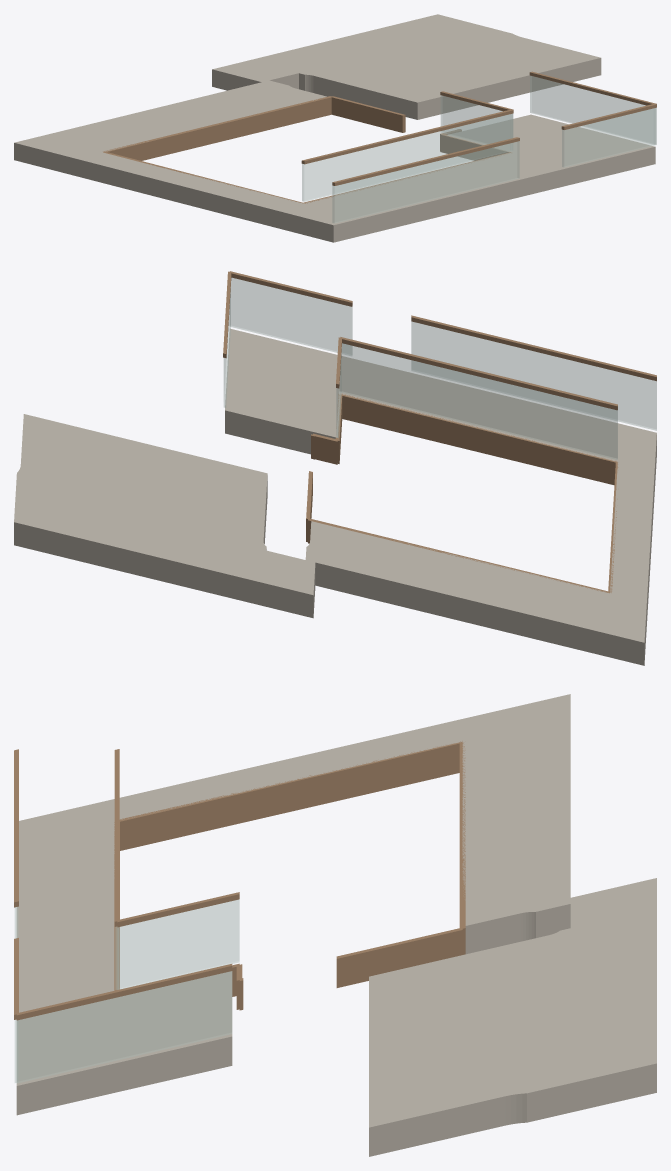
File: PERIMETER_794_r001.glb
3 renders of one model, top to bottom at view 1: azimuth 30°, elevation 25°; view 2: azimuth 150°, elevation 25°; view 3: azimuth 270°, elevation 25°, orthographic. The views are drawn at different scales.
Parts seen in each view (by area): view 1: G2P_794_TERRACE_00, G2P_794_RearGuardGlass_0, G2P_794_OuterGuard_2, G2P_794_OuterGuard_0, G2P_794_PitEdge_0_0, G2P_794_OuterGuard_1, G2P_794_RearGuardGlass_1, G2P_794_PitEdge_5_0, G2P_794_RearGuardRail_0, G2P_794_OuterRail_2, G2P_794_PitEdge_3_0, G2P_794_OuterRail_0 (+4 smaller); view 2: G2P_794_TERRACE_00, G2P_794_RearGuardGlass_0, G2P_794_OuterGuard_2, G2P_794_PitEdge_2_0, G2P_794_OuterGuard_1, G2P_794_RearGuardRail_0, G2P_794_OuterRail_2, G2P_794_PitEdge_0_0, G2P_794_OuterRail_1, G2P_794_PitEdge_4_0; view 3: G2P_794_TERRACE_00, G2P_794_OuterGuard_0, G2P_794_PitEdge_1_0, G2P_794_RearGuardGlass_1, G2P_794_PitEdge_5_0, G2P_794_OuterRail_0, G2P_794_PitEdge_0_0, G2P_794_RearGuardRail_0, G2P_794_RearGuardRail_1, G2P_794_OuterRail_2.
Boxes of the visible parts, x1,y1,x2,y2 form: G2P_794_TERRACE_00: (14, 14, 655, 242); G2P_794_RearGuardGlass_0: (302, 114, 512, 201); G2P_794_OuterGuard_2: (332, 141, 519, 223); G2P_794_OuterGuard_0: (530, 76, 656, 144); G2P_794_PitEdge_0_0: (103, 96, 332, 160); G2P_794_OuterGuard_1: (562, 108, 656, 167); G2P_794_RearGuardGlass_1: (441, 95, 512, 143); G2P_794_PitEdge_5_0: (331, 96, 405, 132); G2P_794_RearGuardRail_0: (301, 109, 513, 164); G2P_794_OuterRail_2: (332, 137, 519, 185); G2P_794_PitEdge_3_0: (440, 134, 509, 160); G2P_794_OuterRail_0: (529, 71, 656, 105); G2P_794_TERRACE_00: (14, 328, 656, 665); G2P_794_RearGuardGlass_0: (340, 343, 617, 459); G2P_794_OuterGuard_2: (411, 322, 656, 430); G2P_794_PitEdge_2_0: (340, 393, 617, 484); G2P_794_OuterGuard_1: (230, 278, 352, 355); G2P_794_RearGuardRail_0: (340, 337, 617, 410); G2P_794_OuterRail_2: (411, 315, 656, 381); G2P_794_PitEdge_0_0: (308, 518, 609, 593); G2P_794_OuterRail_1: (229, 271, 352, 306); G2P_794_PitEdge_4_0: (313, 433, 337, 464); G2P_794_TERRACE_00: (16, 694, 656, 1156); G2P_794_OuterGuard_0: (17, 971, 231, 1083); G2P_794_PitEdge_1_0: (119, 741, 462, 850); G2P_794_RearGuardGlass_1: (117, 899, 239, 989); G2P_794_PitEdge_5_0: (336, 927, 462, 987); G2P_794_OuterRail_0: (16, 964, 232, 1020); G2P_794_PitEdge_0_0: (459, 742, 465, 954); G2P_794_RearGuardRail_0: (114, 749, 119, 926); G2P_794_RearGuardRail_1: (117, 892, 239, 927); G2P_794_OuterRail_2: (14, 749, 18, 907).
Size of the model in its own units: 14.26 by 1.55 by 8.93.
